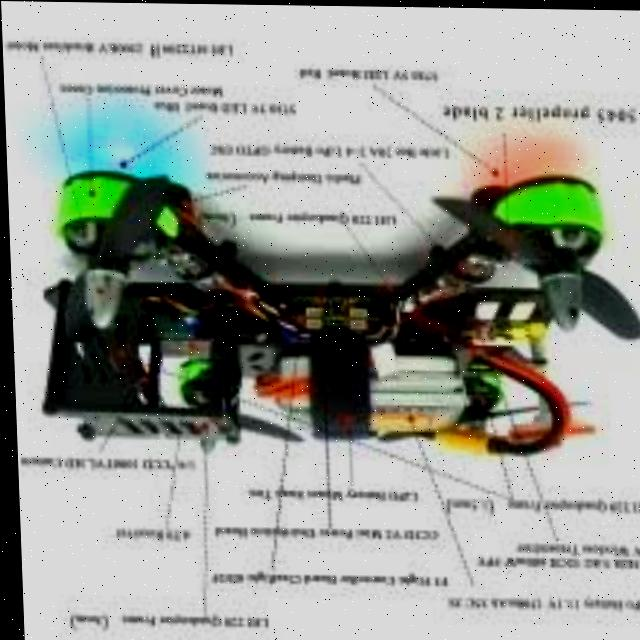drone: (39, 138, 635, 462)
